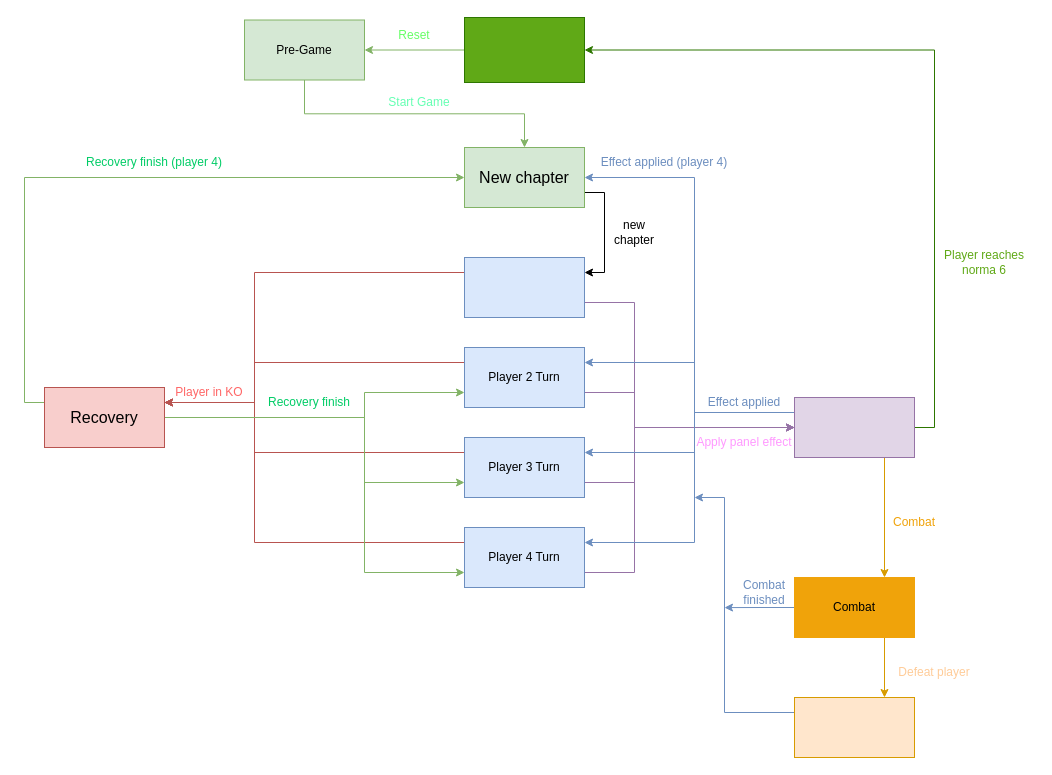
Some shapes in this 1052 by 775 pixel diagram are drawn without their labels. Here are the shapes that lost their labels. From the top down, the centre of each, then its label:
At [524,49]: "Game finish".
At [524,287]: "Player 1 Turn".
At [854,427]: "Panel effect".
At [854,727]: "Update Points".
